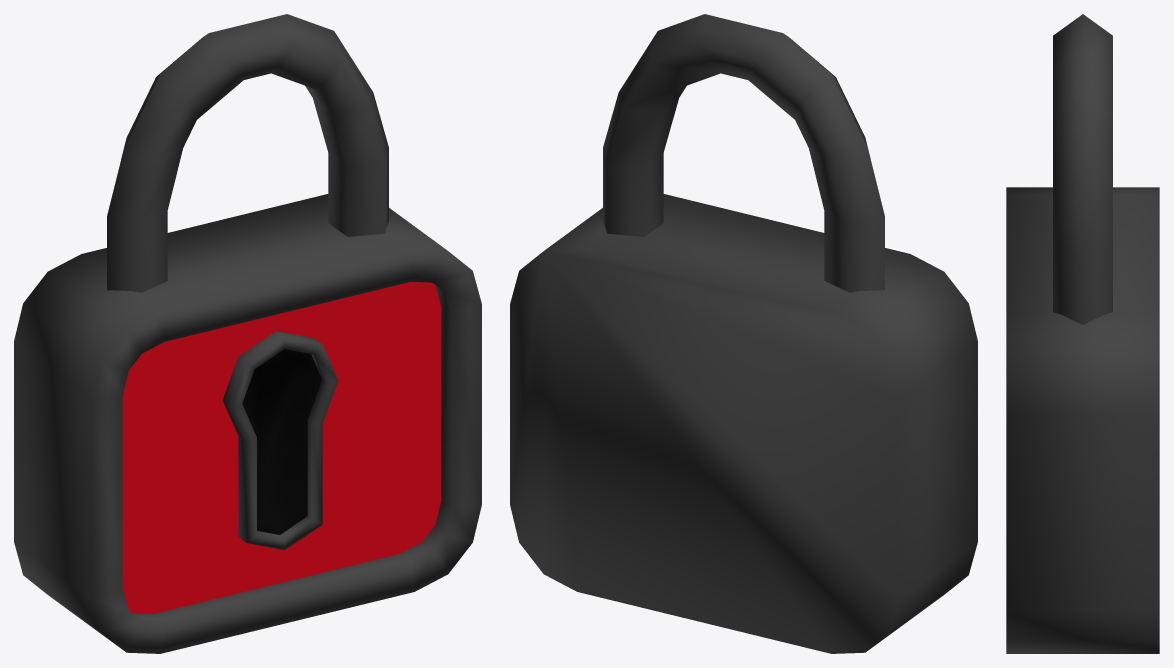
File: Padlock.fbx
3 views of the same model, side by side, from view 1: azimuth 30°, elevation 25°; view 2: azimuth 150°, elevation 25°; view 3: azimuth 270°, elevation 25° (orthographic). The views are drawn at different scales.
Visible parts, largest first — view 1: Padlock, Torus; view 2: Padlock, Torus; view 3: Padlock, Torus.
Boxes of the visible parts, x1,y1,x2,y2 form: Padlock: (14, 194, 481, 653); Torus: (107, 14, 388, 292); Padlock: (510, 194, 977, 653); Torus: (603, 14, 884, 292); Padlock: (1006, 187, 1159, 653); Torus: (1053, 14, 1112, 324).
Bounding box in the file's own units: 0.5251 × 0.7363 × 0.1849.
